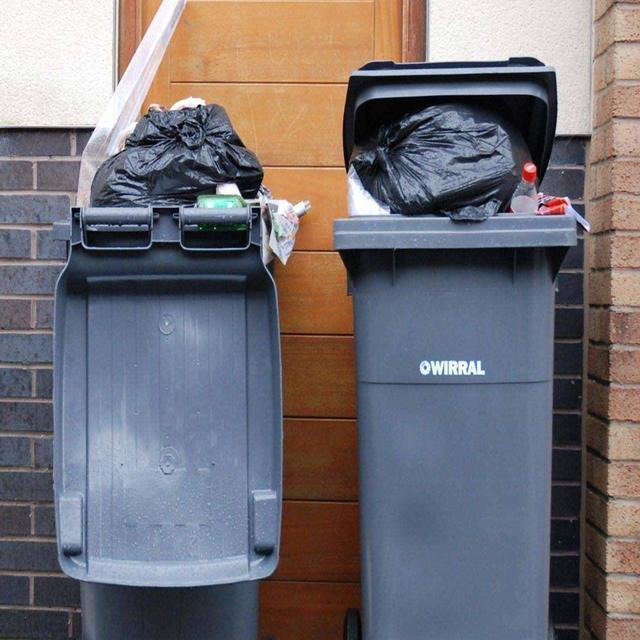garbage: (90, 103, 315, 270), (337, 108, 593, 240)
